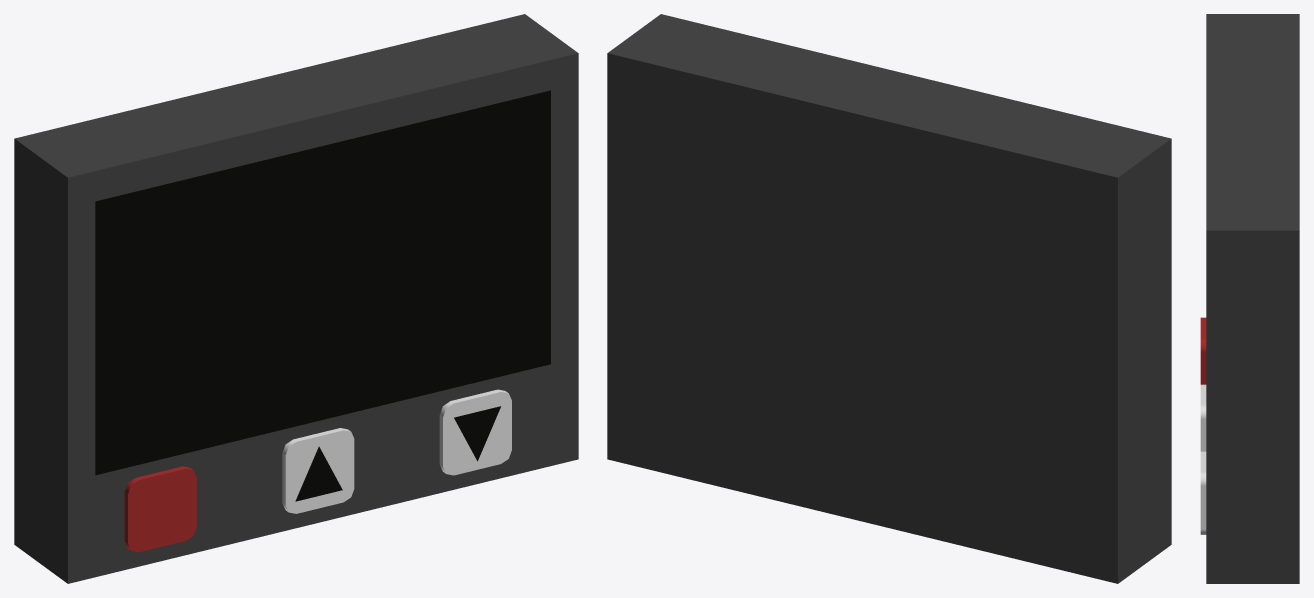
Rendered from Utyajka.glb.
3 renders of one model, left to right at view 1: azimuth 30°, elevation 25°; view 2: azimuth 150°, elevation 25°; view 3: azimuth 270°, elevation 25°, orthographic. The views are drawn at different scales.
Visible parts, largest first — view 1: Ustavka; view 2: Ustavka; view 3: Ustavka.
Boxes of the visible parts, bbox=[...] form: Ustavka: bbox=[14, 14, 578, 583]; Ustavka: bbox=[607, 14, 1171, 583]; Ustavka: bbox=[1200, 14, 1299, 583].
Size of the model in its own units: 0.3566 by 0.2711 by 0.069.
Materials: 1 (1 with a texture image).
